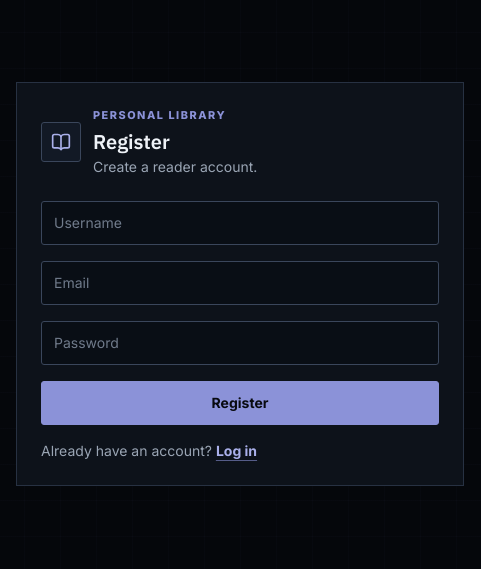
Test: RegisterPage › maps backend field errors to registration fields
The width and height of the screenshot is (481, 569).
In the field with placeholder "Username": (240, 223) [41,201,439,245], type "reader"
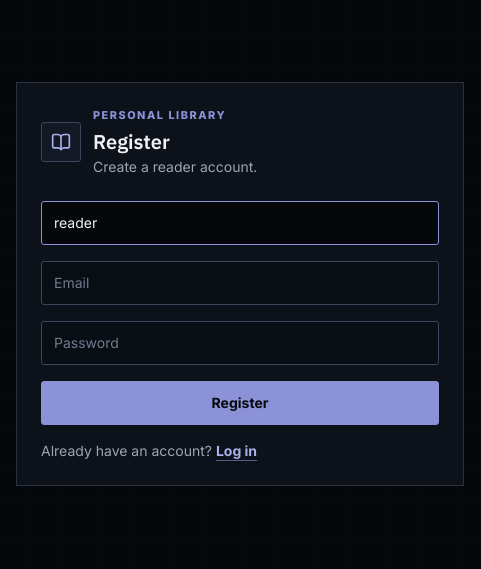
In the field with placeholder "Email": (240, 283) [41,261,439,305], type "reader@example.com"
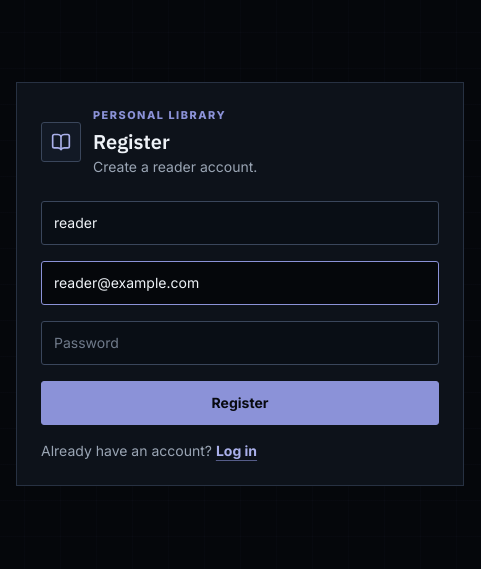
In the password field with placeholder "Password": (240, 343) [41,321,439,365], type "Password123!"
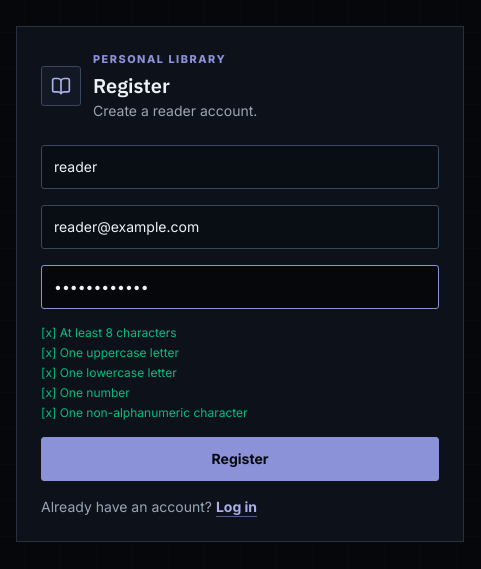
Click the button "Register": (240, 459) [41,437,439,481]
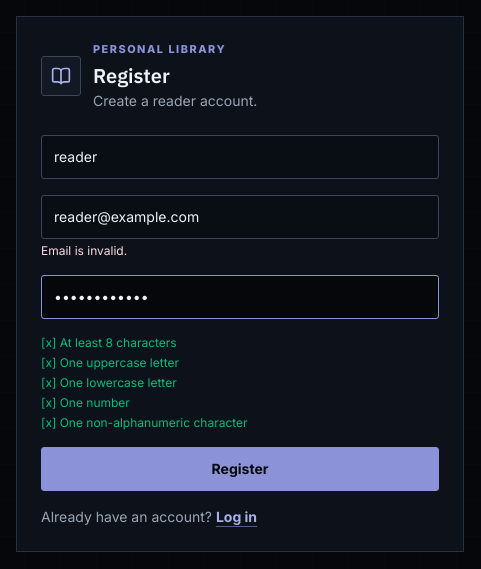
Expected: the text "Email is invalid." is shown, [41,243,127,258]
